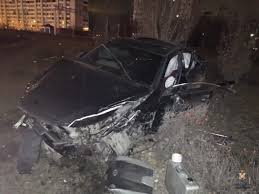car: (27, 31, 219, 163)
